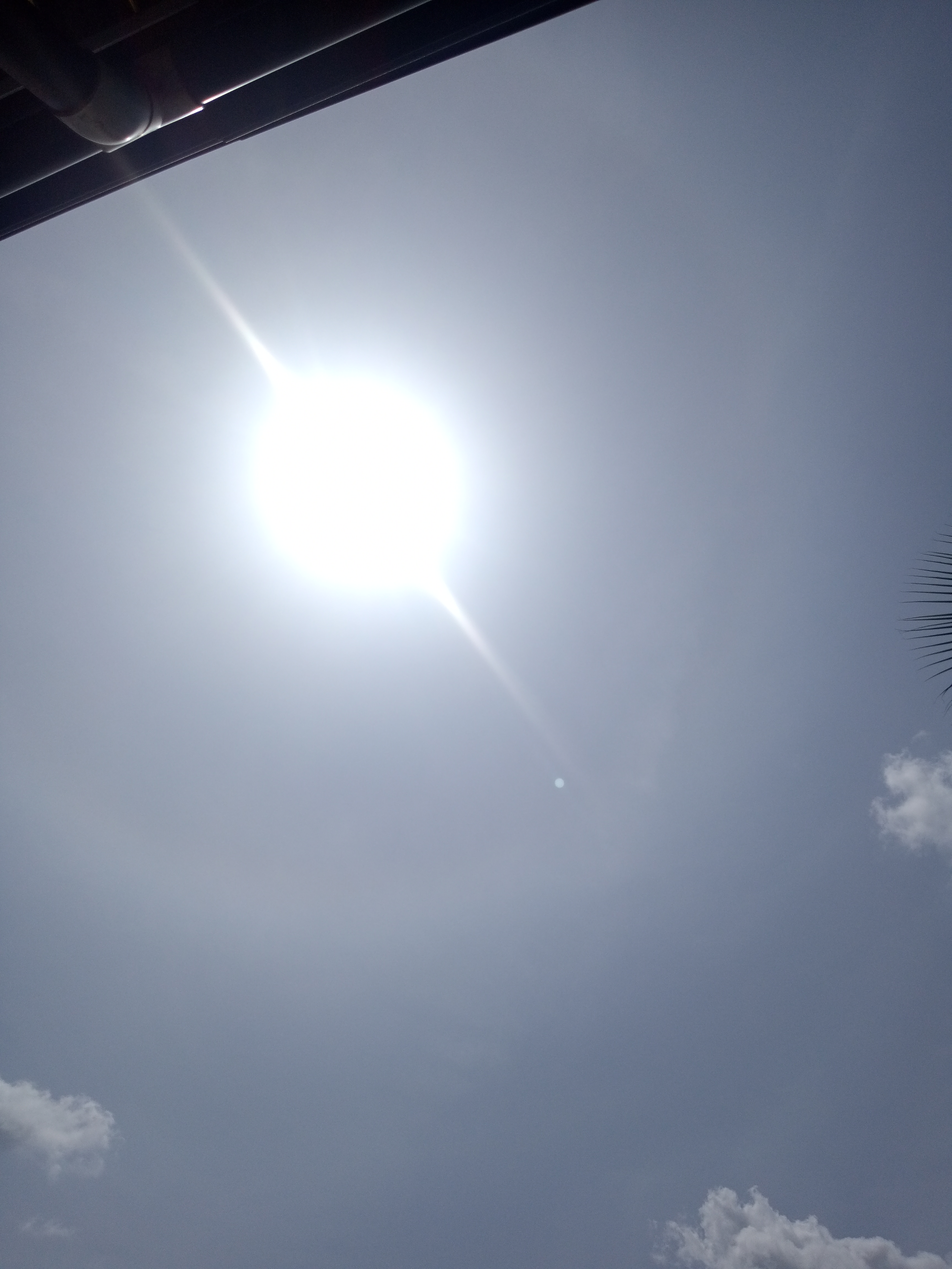sun: (166, 306, 550, 688)
